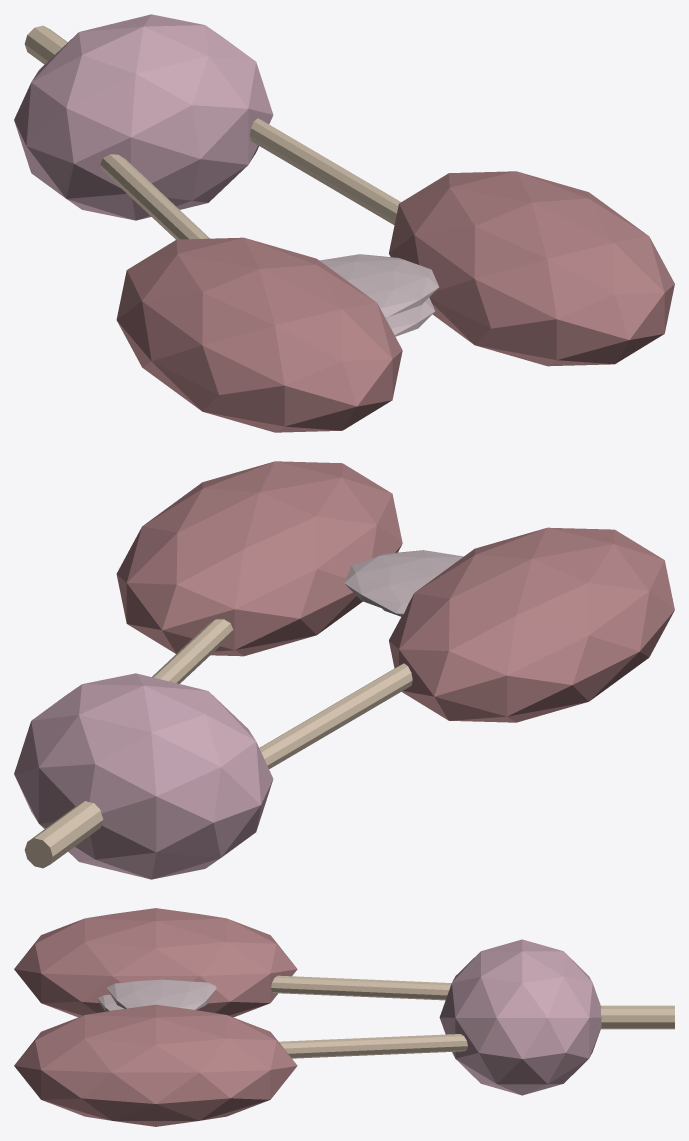
File: urinary-g3-low.glb
3 renders of one model, top to bottom at view 1: azimuth 30°, elevation 25°; view 2: azimuth 150°, elevation 25°; view 3: azimuth 270°, elevation 25°, orthographic. The views are drawn at different scales.
Parts seen in each view (by area): view 1: left_kidney, right_kidney, bladder, left_renal_vein_proxy, right_ureter, left_ureter, urethra_proxy, left_renal_artery_proxy; view 2: left_kidney, right_kidney, bladder, left_renal_vein_proxy, left_ureter, urethra_proxy, right_ureter; view 3: right_kidney, left_kidney, bladder, right_ureter, left_ureter, left_renal_vein_proxy, urethra_proxy.
Part boxes in pixels (left/top/right/bottom): left_kidney: left=116, top=237, right=402, bottom=432; right_kidney: left=389, top=171, right=674, bottom=366; bladder: left=14, top=14, right=273, bottom=220; left_renal_vein_proxy: left=319, top=254, right=438, bottom=317; right_ureter: left=250, top=118, right=400, bottom=225; left_ureter: left=100, top=154, right=209, bottom=239; urethra_proxy: left=24, top=25, right=67, bottom=64; left_renal_artery_proxy: left=385, top=297, right=435, bottom=336; left_kidney: left=389, top=527, right=674, bottom=722; right_kidney: left=116, top=461, right=402, bottom=656; bladder: left=14, top=673, right=273, bottom=879; left_renal_vein_proxy: left=344, top=550, right=463, bottom=614; left_ureter: left=259, top=663, right=412, bottom=769; urethra_proxy: left=24, top=801, right=103, bottom=868; right_ureter: left=152, top=619, right=233, bottom=683; right_kidney: left=14, top=1004, right=297, bottom=1126; left_kidney: left=14, top=908, right=297, bottom=1017; bladder: left=439, top=939, right=601, bottom=1095; right_ureter: left=279, top=1034, right=467, bottom=1058; left_ureter: left=271, top=975, right=451, bottom=1000; left_renal_vein_proxy: left=106, top=979, right=216, bottom=1009; urethra_proxy: left=601, top=1005, right=674, bottom=1029.
Size of the model in its own units: 2.08 by 0.74 by 3.36.
